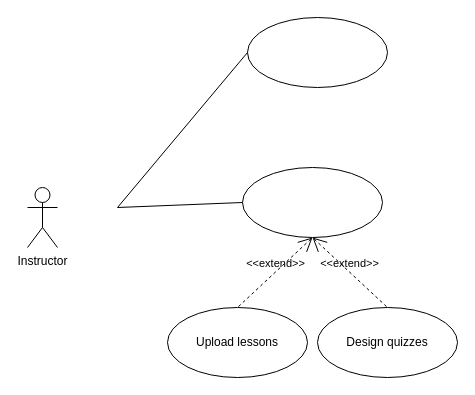
Image size: 475x395. Some labels were removed from this diagram. Here are the shapes that lost their labels. From the top down, the centre of each, then its label:
At [317,52]: "Create courses".
At [312,202]: "Manage courses".
